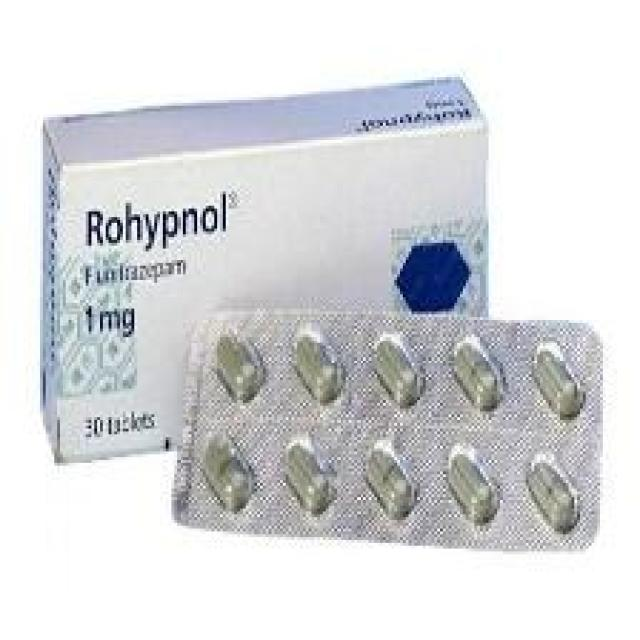Medicine: (43, 106, 640, 560)
